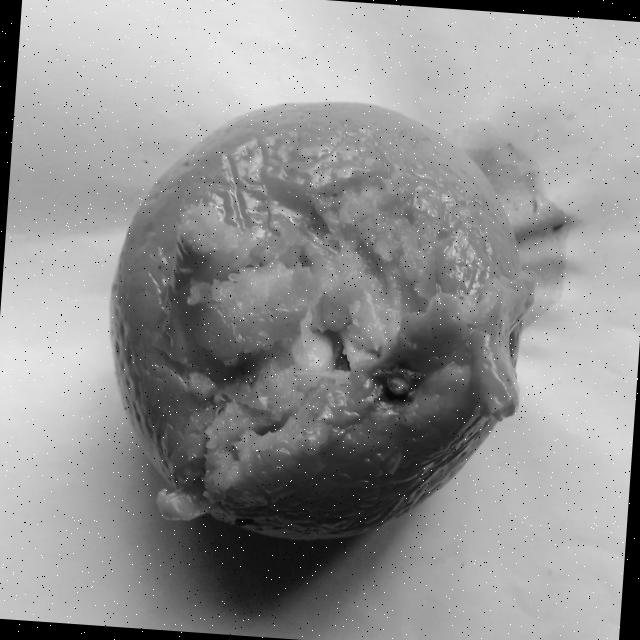Rotten: (92, 86, 548, 558)
